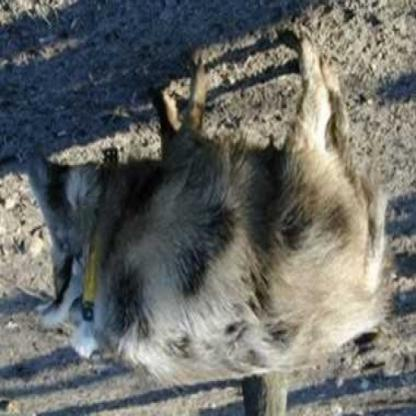boar: (8, 42, 407, 382)
